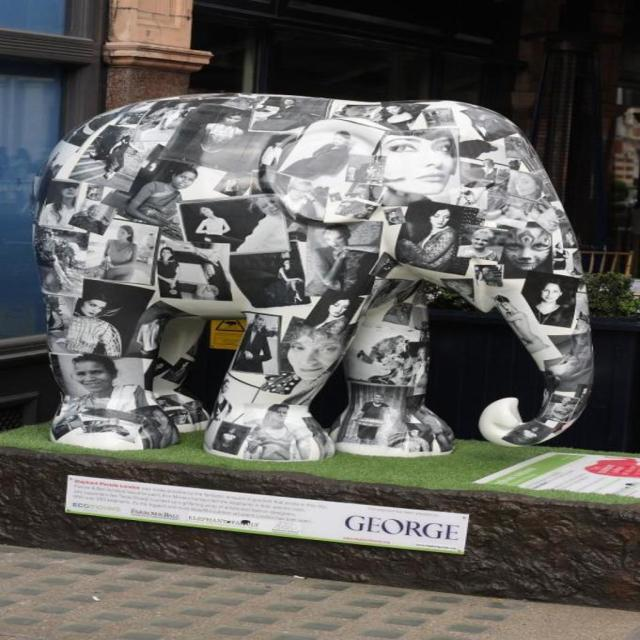Elephant: (39, 79, 564, 454)
